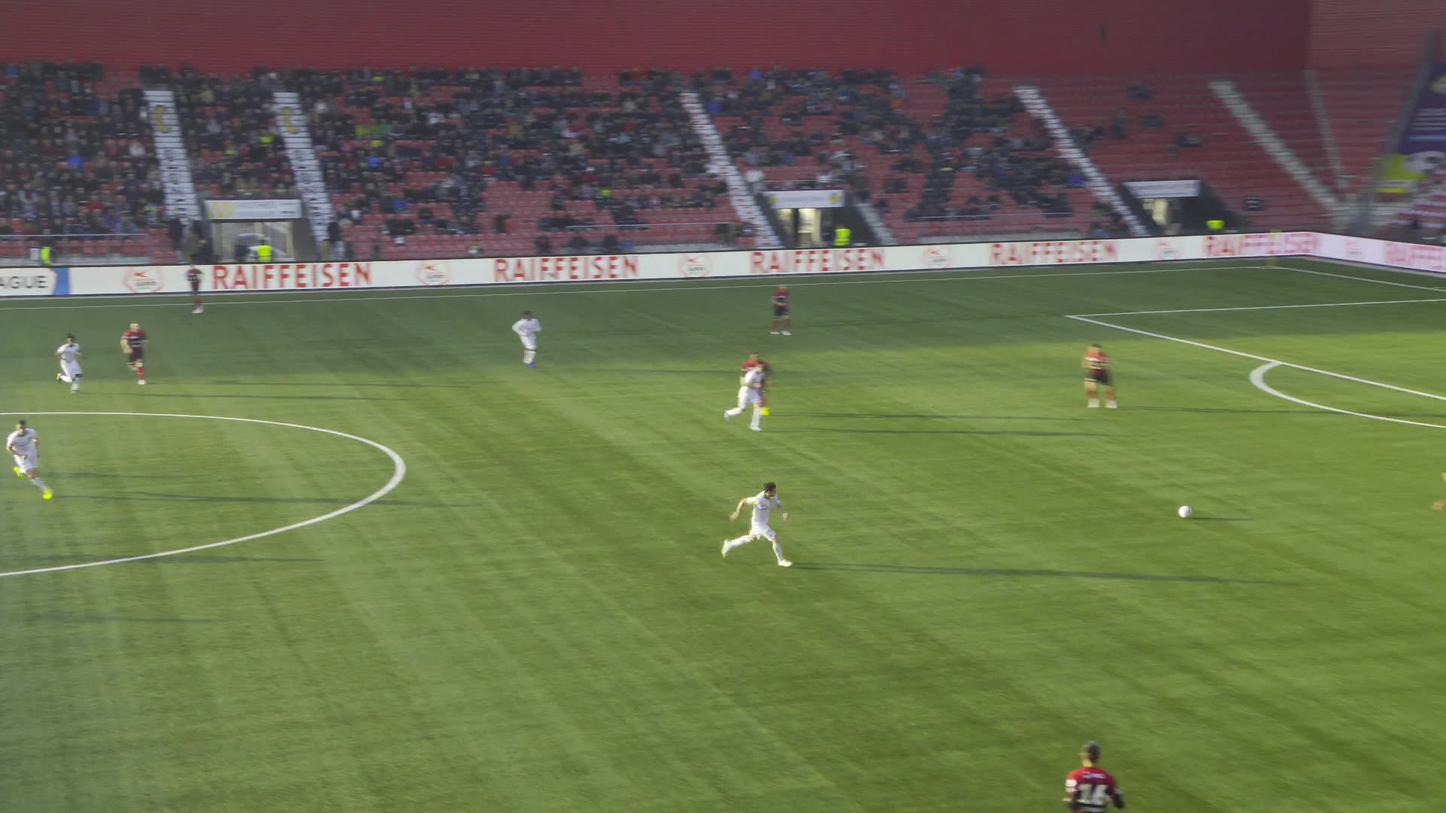ball: (1179, 505, 1194, 517)
player: (726, 480, 794, 567), (1066, 737, 1129, 812), (6, 419, 57, 498), (726, 361, 768, 431), (1087, 344, 1124, 410), (741, 351, 778, 416), (53, 331, 89, 395), (123, 317, 153, 384), (515, 310, 545, 370), (772, 282, 797, 336), (188, 263, 209, 314), (1431, 469, 1445, 510)
